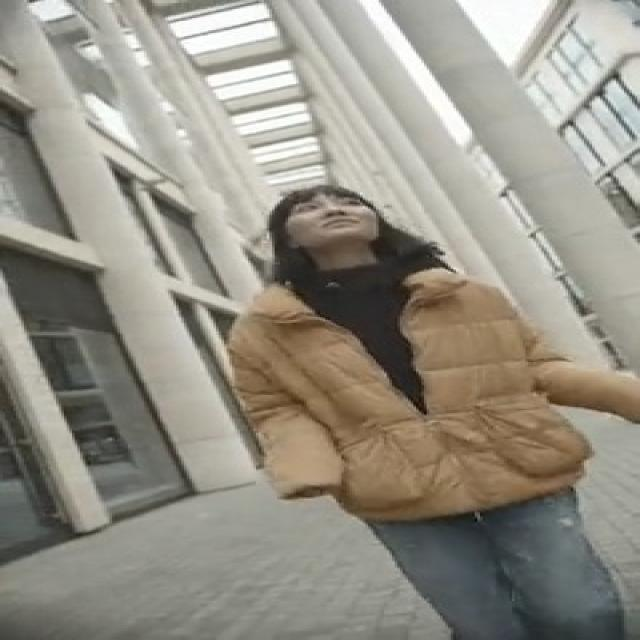Jacket_Wearer: (140, 250, 640, 516)
Person: (149, 154, 639, 640)
